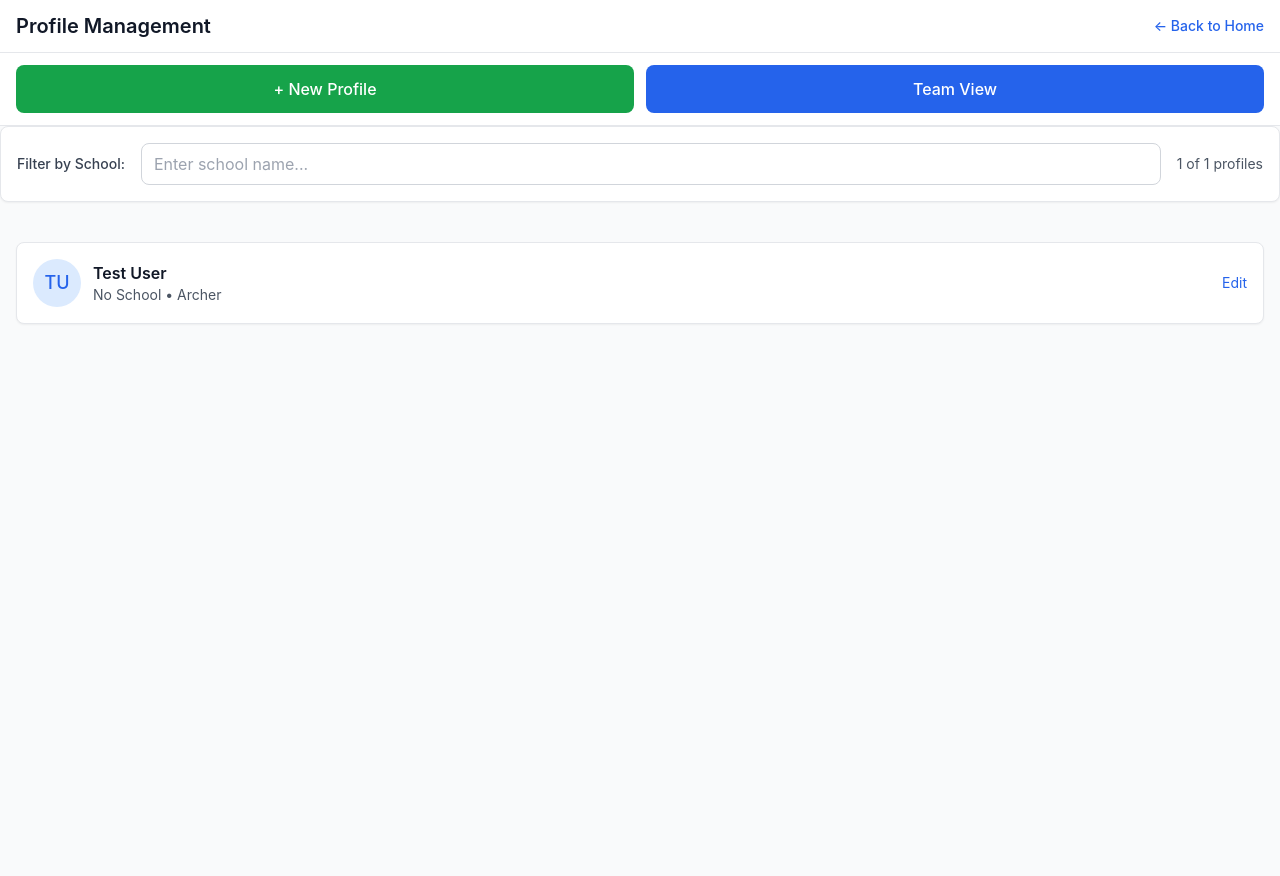
it: ProfileManagement › Profile Editing › should show edit form when edit button is clicked
Expected: the heading "Test User" is shown, x1=93 y1=261 x2=167 y2=285
What coordinates should you click on to do the following:
click the button "Edit"
I would click on:
 (1234, 283)
Its box is x1=1222 y1=273 x2=1247 y2=293.
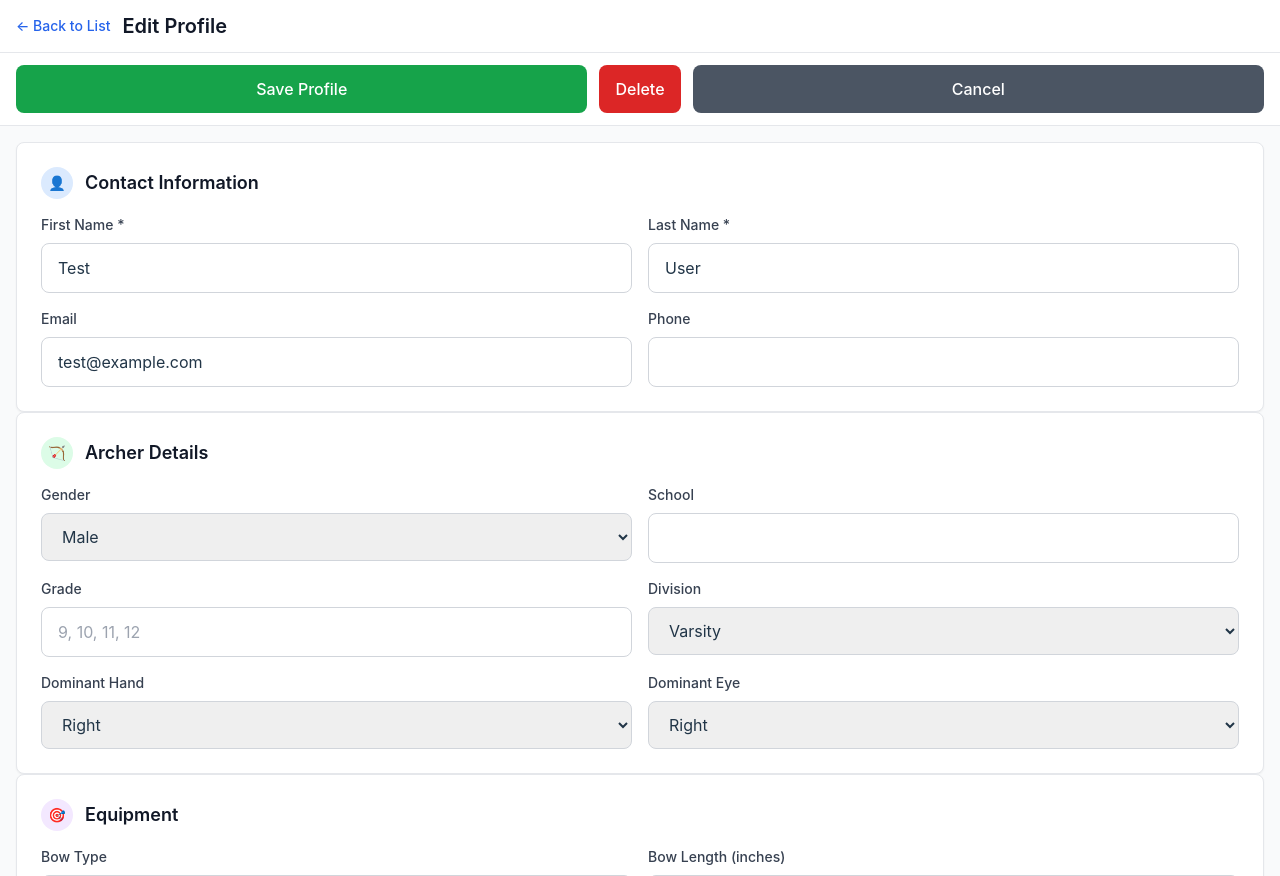
Now the heading "Edit Profile" is shown, box x1=122 y1=12 x2=227 y2=40
Now the field showing "Test" below "First Name *" is shown, box x1=41 y1=243 x2=632 y2=293
Now the field showing "User" below "Last Name *" is shown, box x1=648 y1=243 x2=1239 y2=293
